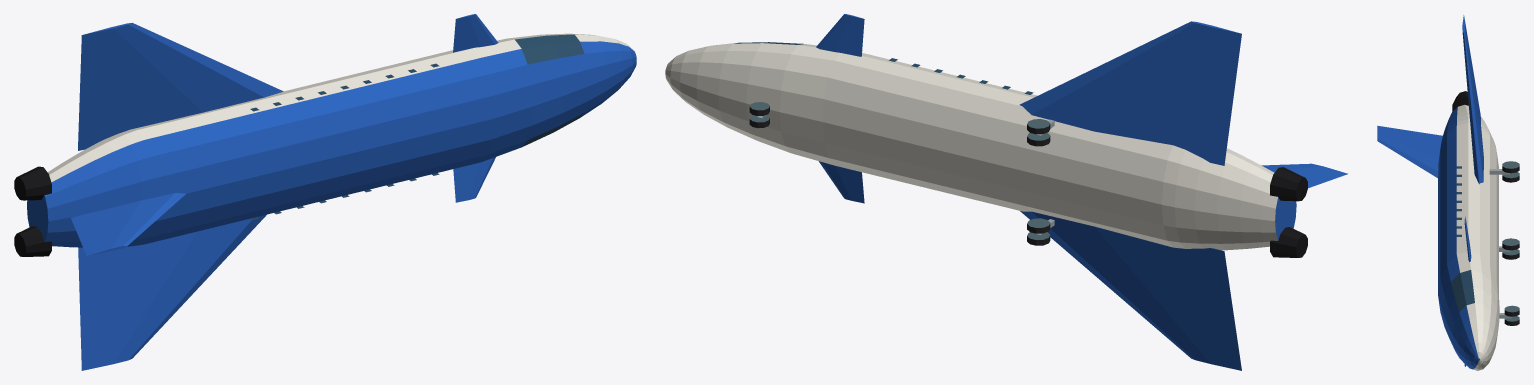
The picture shows the model from 3 angles, left to right: view 1: azimuth 30°, elevation 25°; view 2: azimuth 150°, elevation 25°; view 3: azimuth 270°, elevation 25°; orthographic projection. The views are drawn at different scales.
Parts seen in each view (by area): view 1: default_fuselage, default_wing1, default_wing-1, default_fin1, default_canard1, default_canard-1, default_nozzle0.8, default_nozzle-0.8; view 2: default_fuselage, default_wing1, default_wing-1, default_canard1, default_nozzle0.8, default_canard-1, default_nozzle-0.8, default_fin1; view 3: default_fuselage, default_fin1, default_wing1, default_nozzle0.8, default_main1_wheel0.17, default_main-1_wheel0.17, default_nose_gear_wheel0.17, default_main1_wheel-0.17, default_windows1, default_main-1_wheel-0.17, default_canard1, default_nose_gear_wheel-0.17.
Part boxes in pixels (x1,y1,x2,y2): default_fuselage: (27, 33, 636, 247); default_wing1: (78, 22, 283, 150); default_wing-1: (78, 214, 266, 370); default_fin1: (71, 193, 185, 255); default_canard1: (453, 14, 498, 52); default_canard-1: (453, 157, 495, 202); default_nozzle0.8: (14, 166, 51, 200); default_nozzle-0.8: (14, 226, 51, 256); default_fuselage: (665, 42, 1296, 250); default_wing1: (1019, 21, 1241, 165); default_wing-1: (1020, 211, 1241, 370); default_canard1: (816, 14, 864, 56); default_nozzle0.8: (1270, 167, 1307, 201); default_canard-1: (819, 161, 864, 203); default_nozzle-0.8: (1270, 227, 1307, 257); default_fin1: (1261, 163, 1347, 188); default_fuselage: (1438, 104, 1499, 370); default_fin1: (1377, 125, 1442, 177); default_wing1: (1462, 15, 1483, 184); default_nozzle0.8: (1452, 91, 1468, 111); default_main1_wheel0.17: (1502, 161, 1519, 173); default_main-1_wheel0.17: (1502, 238, 1519, 250); default_nose_gear_wheel0.17: (1504, 305, 1519, 316); default_main1_wheel-0.17: (1502, 172, 1519, 182); default_windows1: (1456, 166, 1461, 236); default_main-1_wheel-0.17: (1502, 249, 1519, 259); default_canard1: (1464, 216, 1471, 261); default_nose_gear_wheel-0.17: (1504, 316, 1519, 325).
Size of the model in its own units: 18.5 by 9.5 by 4.69.
